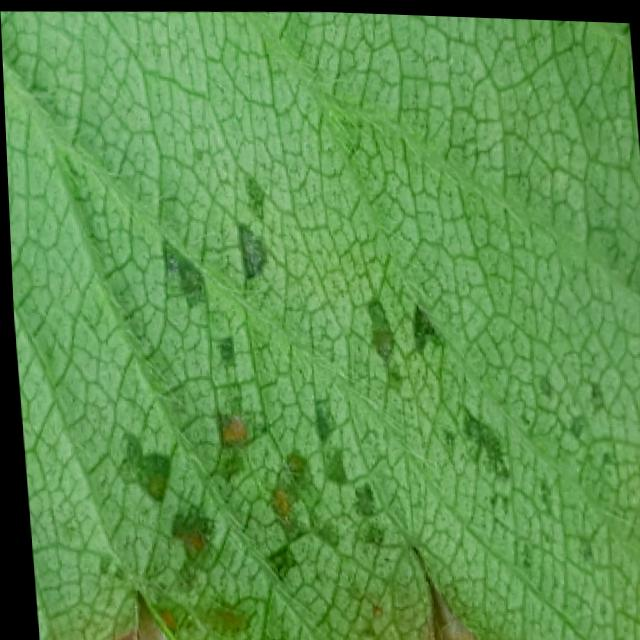Angular Leafspot: (33, 161, 640, 640)
